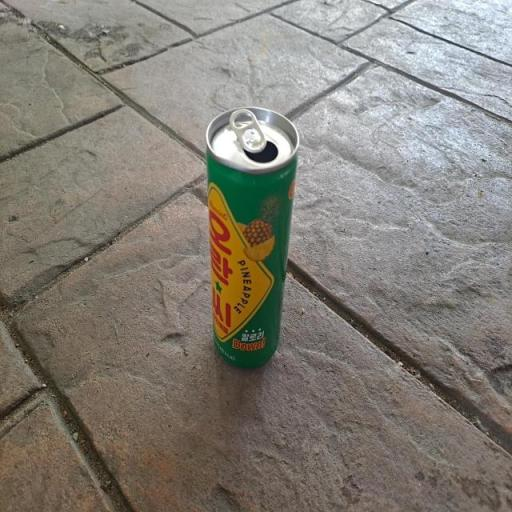metal: (182, 68, 336, 404)
